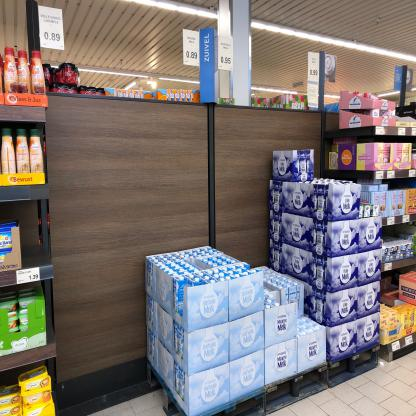prtg: (39, 6, 66, 52), (184, 30, 201, 68), (219, 37, 234, 73), (309, 52, 321, 82)
